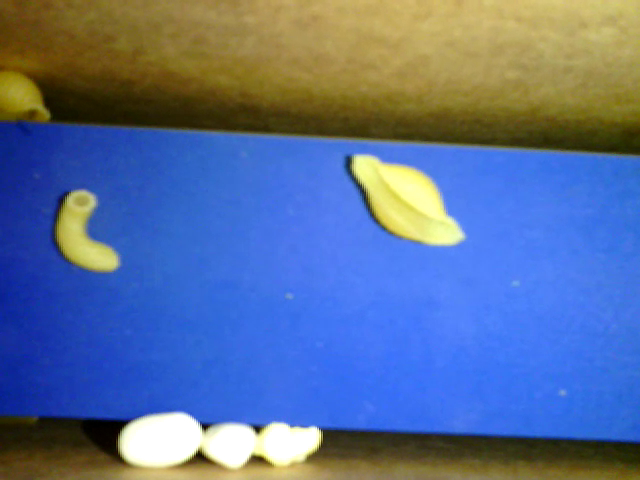elbow: (52, 186, 122, 273)
shell: (346, 152, 464, 245), (2, 73, 53, 124)
